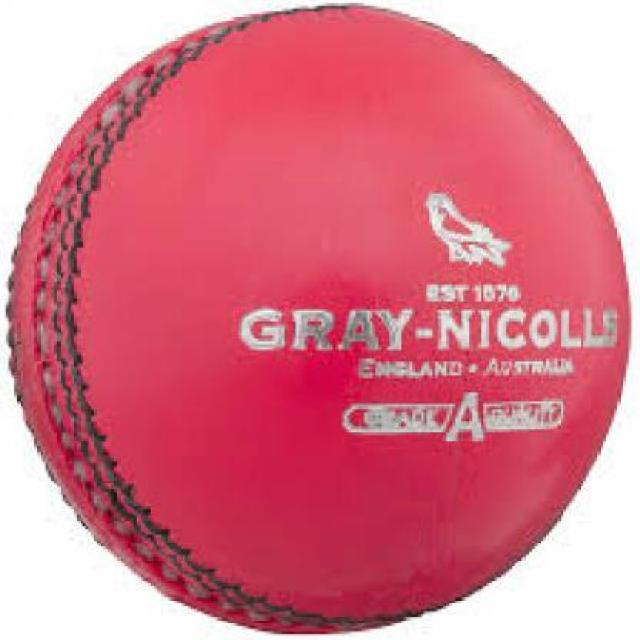Cricket ball: (2, 0, 638, 639)
